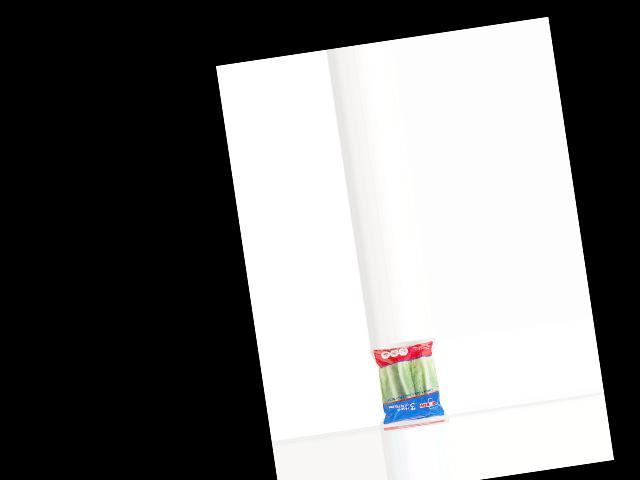lettuce: (370, 337, 445, 426)
